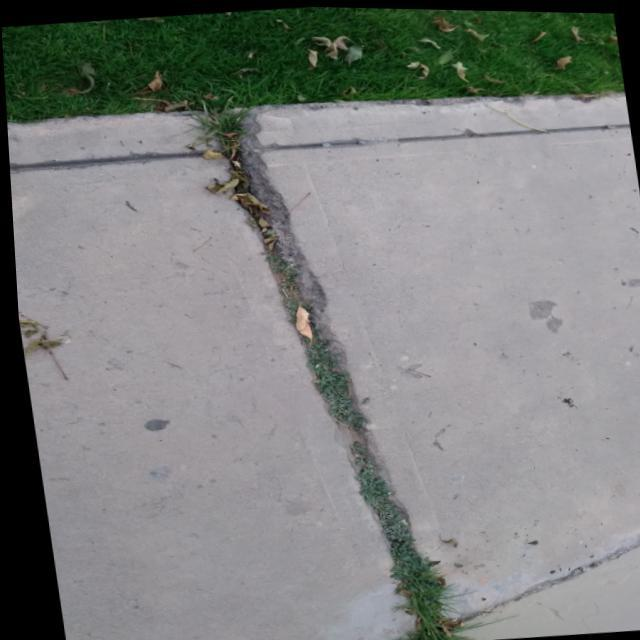hole: (196, 106, 312, 300)
